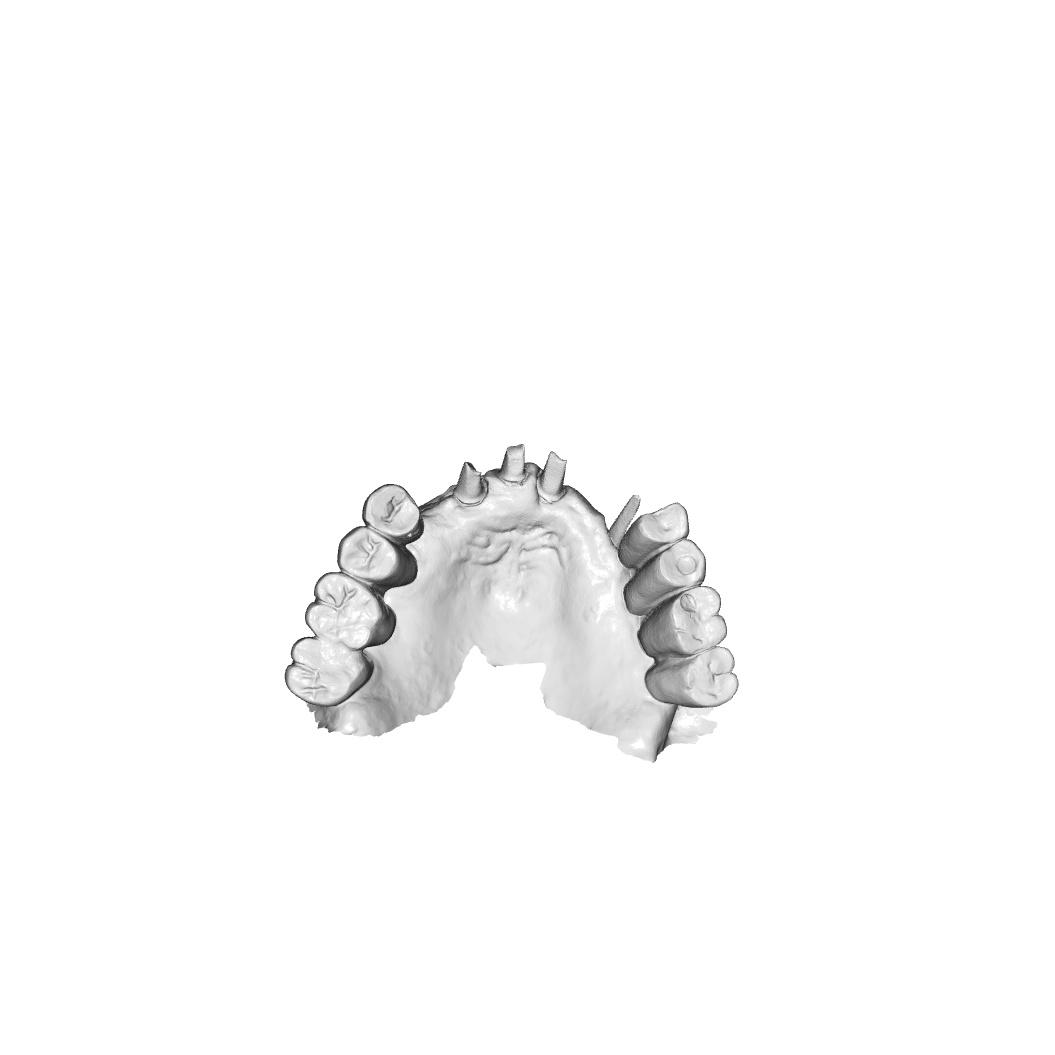crown: (608, 494, 642, 551), (453, 459, 490, 506), (536, 450, 568, 504), (497, 443, 529, 486)
molar: (304, 571, 397, 651), (637, 585, 728, 660), (284, 636, 374, 709), (644, 645, 740, 708)
premolar: (623, 538, 707, 617), (336, 525, 419, 590), (617, 502, 690, 569), (360, 481, 426, 546)
